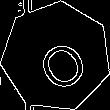O_NW: (24, 23, 88, 90)
